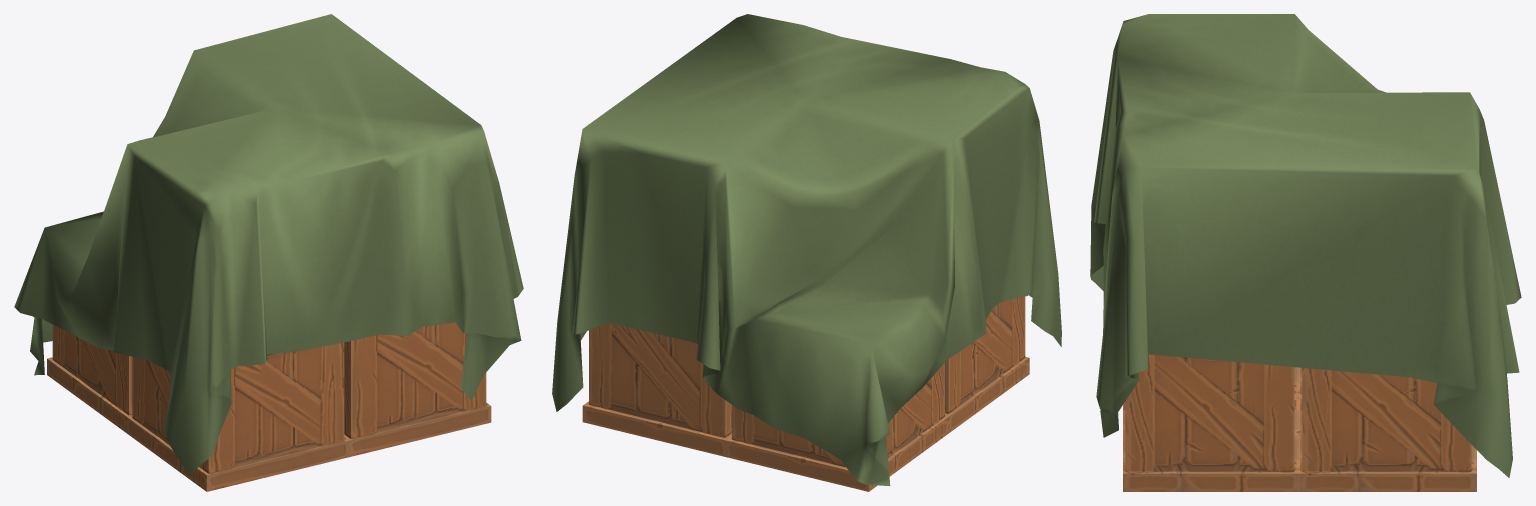
Rendered from Pfb_Box_GRP.fbx.
3 views of the same model, side by side, from view 1: azimuth 30°, elevation 25°; view 2: azimuth 150°, elevation 25°; view 3: azimuth 270°, elevation 25° (orthographic). The views are drawn at different scales.
Visible parts, largest first — view 1: MAT_Canvas_01, Mat_WoodBox_01_1; view 2: MAT_Canvas_01, Mat_WoodBox_01_1; view 3: MAT_Canvas_01, Mat_WoodBox_01_1.
Part boxes in pixels (x1,y1,x2,y2): MAT_Canvas_01: [14, 14, 523, 475]; Mat_WoodBox_01_1: [47, 322, 491, 491]; MAT_Canvas_01: [552, 14, 1061, 486]; Mat_WoodBox_01_1: [582, 296, 1029, 491]; MAT_Canvas_01: [1090, 14, 1521, 477]; Mat_WoodBox_01_1: [1123, 354, 1476, 491].
Bounding box in the file's own units: 1.93 × 1.55 × 1.85.
Materials: 2 (2 with a texture image).
